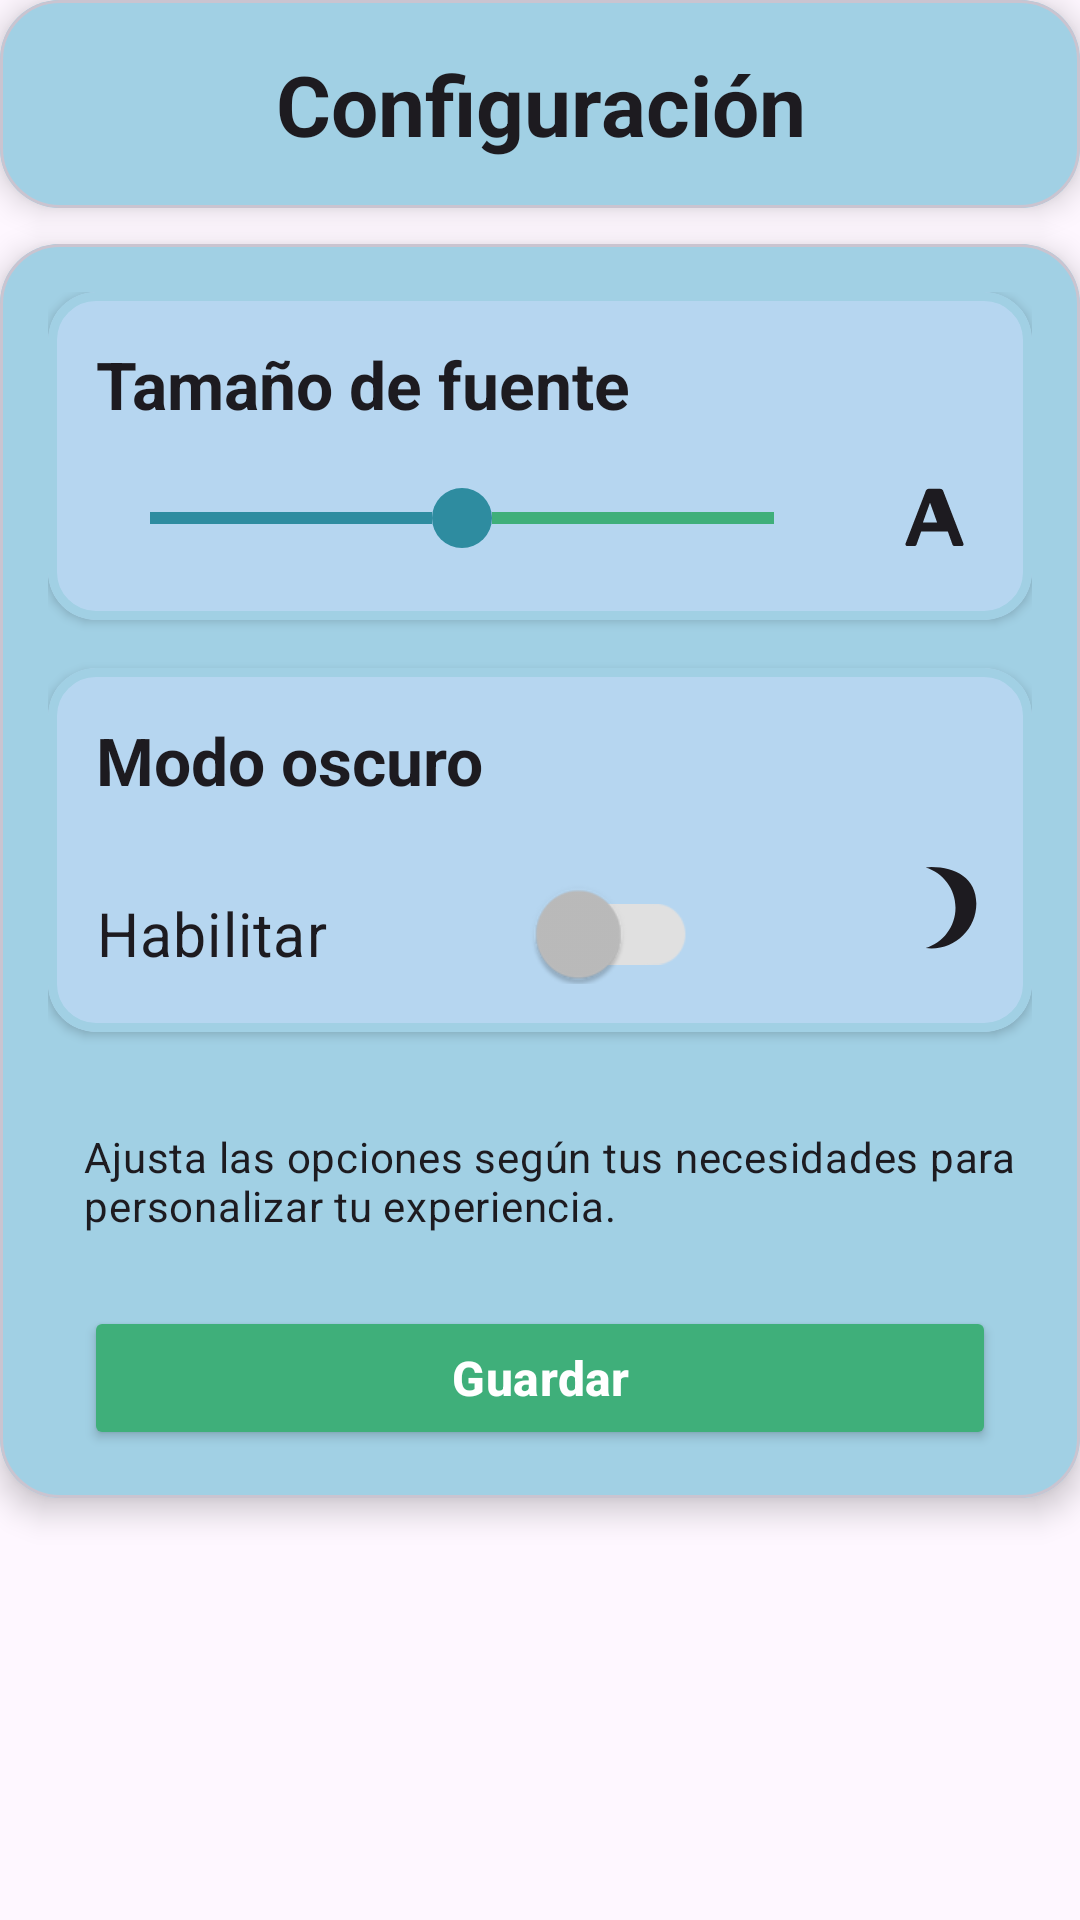

Icon click points for this 1080w x 1920h phone screenshot, format [x,y]:
mode: [951,908]
text format: [934,517]
